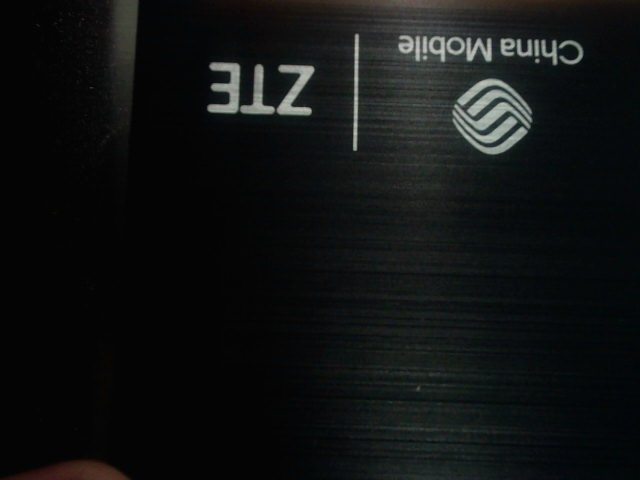AL_ZTEChinaMobile: (185, 21, 591, 170)
